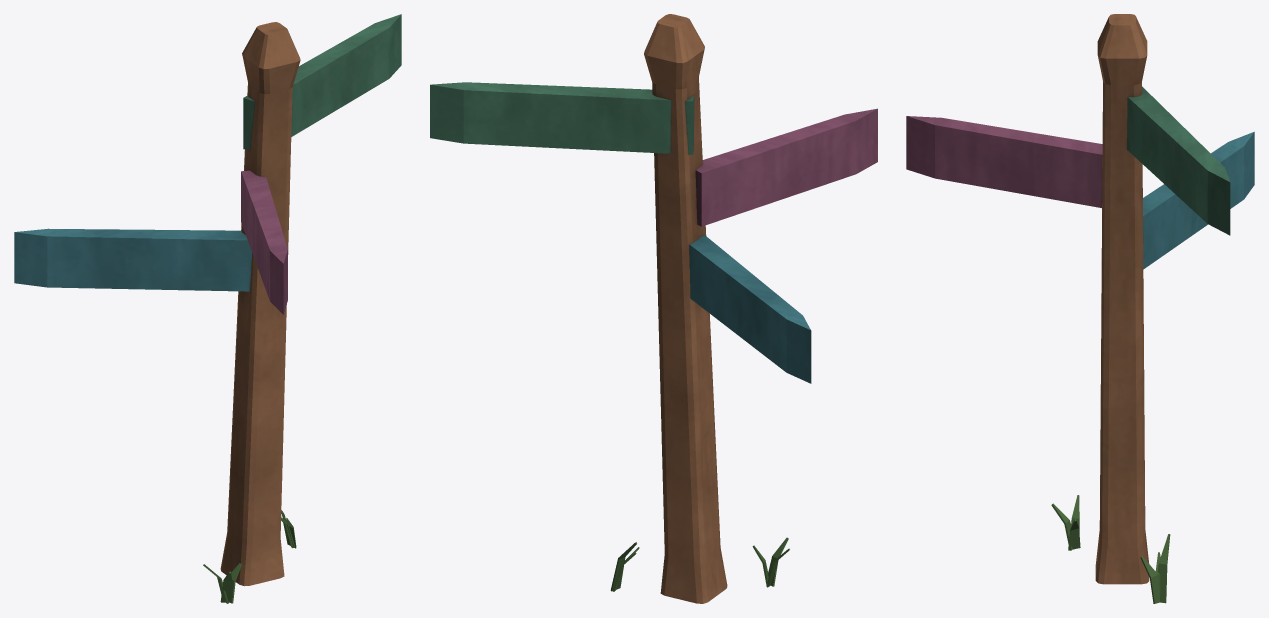
The model's file is fingerpost.glb.
3 renders of one model, left to right at view 1: azimuth 30°, elevation 25°; view 2: azimuth 150°, elevation 25°; view 3: azimuth 270°, elevation 25°, orthographic. The views are drawn at different scales.
Parts seen in each view (by area): view 1: Fingerpost, v_fingerpost_f_grass_deep; view 2: Fingerpost, v_fingerpost_f_grass_deep; view 3: Fingerpost, v_fingerpost_f_grass_deep.
Boxes of the visible parts, <box> form: Fingerpost: <box>14,14,401,586</box>; v_fingerpost_f_grass_deep: <box>203,510,296,603</box>; Fingerpost: <box>430,14,877,603</box>; v_fingerpost_f_grass_deep: <box>610,537,789,591</box>; Fingerpost: <box>906,14,1254,584</box>; v_fingerpost_f_grass_deep: <box>1051,495,1170,603</box>.
Size of the model in its own units: 1.69 by 2.32 by 1.3.
Materials: 2 (1 with a texture image).
